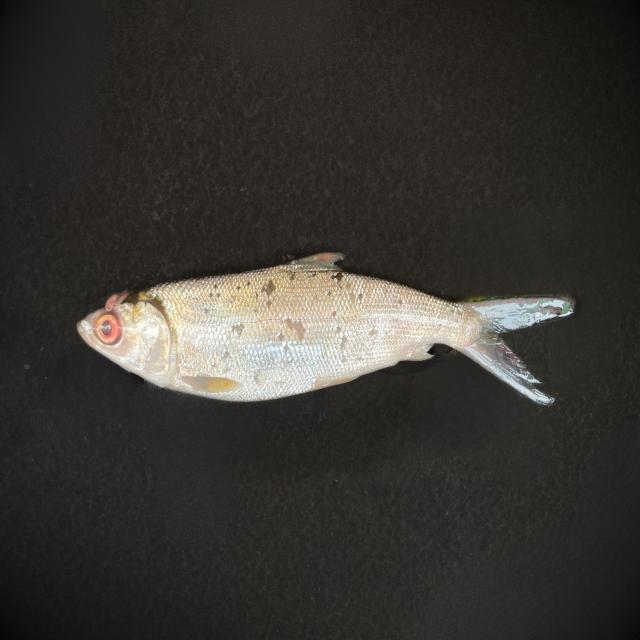625 g: (76, 251, 574, 405)
